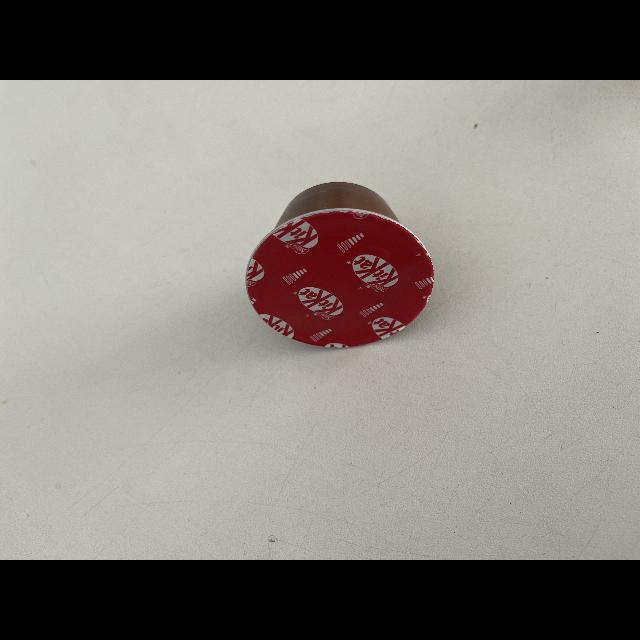intact_capsule: (239, 172, 441, 358)
